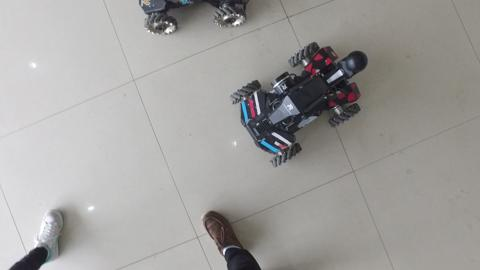chariot: (224, 35, 374, 170), (134, 1, 246, 44)
